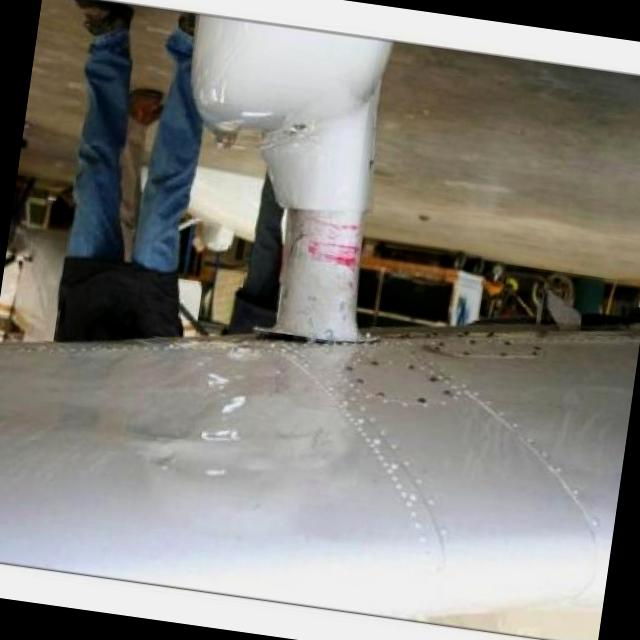dent: (188, 418, 242, 460)
